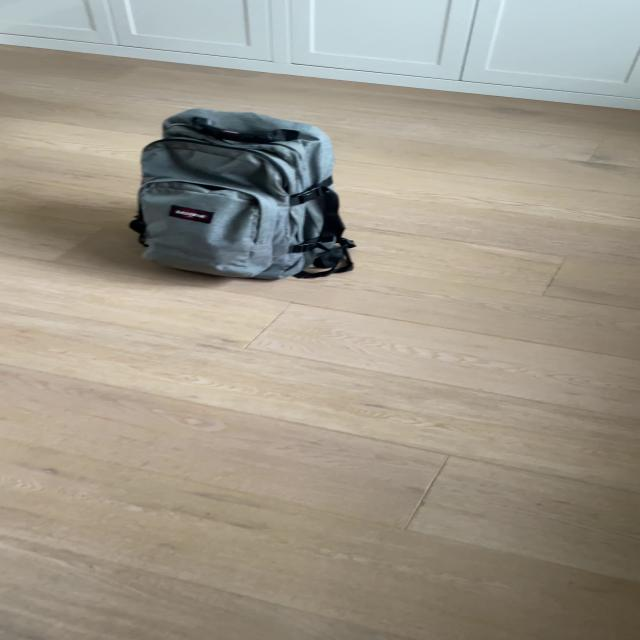backpack: (121, 101, 362, 285)
